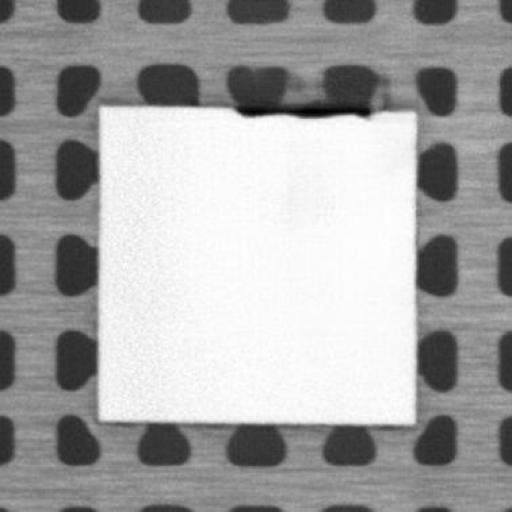DIE_BROKEN: (232, 100, 370, 119)
